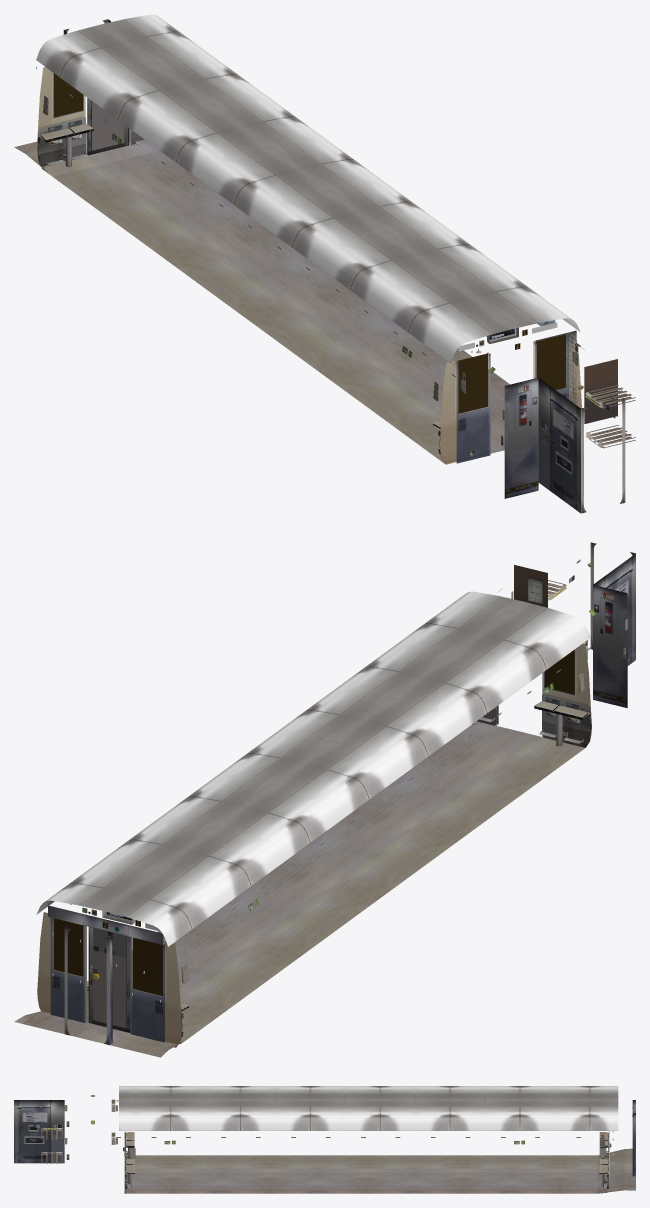
The model's file is coach2-inner-door-static-patch.fbx.
The picture shows the model from 3 angles, top to bottom: view 1: azimuth 30°, elevation 25°; view 2: azimuth 150°, elevation 25°; view 3: azimuth 270°, elevation 25°; orthographic projection. The views are drawn at different scales.
Visible parts, largest first — view 1: Coach02_InnerFixed_Block004, Coach02_InnerFixed_Block001; view 2: Coach02_InnerFixed_Block004, Coach02_InnerFixed_Block001; view 3: Coach02_InnerFixed_Block004, Coach02_InnerFixed_Block001.
Boxes of the visible parts, <box> form: Coach02_InnerFixed_Block004: <box>14,14,617,513</box>; Coach02_InnerFixed_Block001: <box>37,19,635,513</box>; Coach02_InnerFixed_Block004: <box>14,553,635,1057</box>; Coach02_InnerFixed_Block001: <box>37,542,635,1047</box>; Coach02_InnerFixed_Block004: <box>14,1086,635,1193</box>; Coach02_InnerFixed_Block001: <box>33,1095,604,1163</box>.
Size of the model in its own units: 281 by 231 by 1745.
3 materials, 2 textured.
